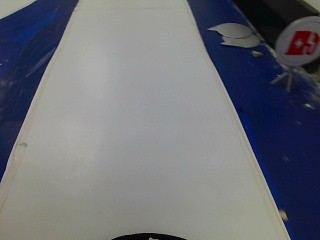battery: (273, 14, 318, 68)
